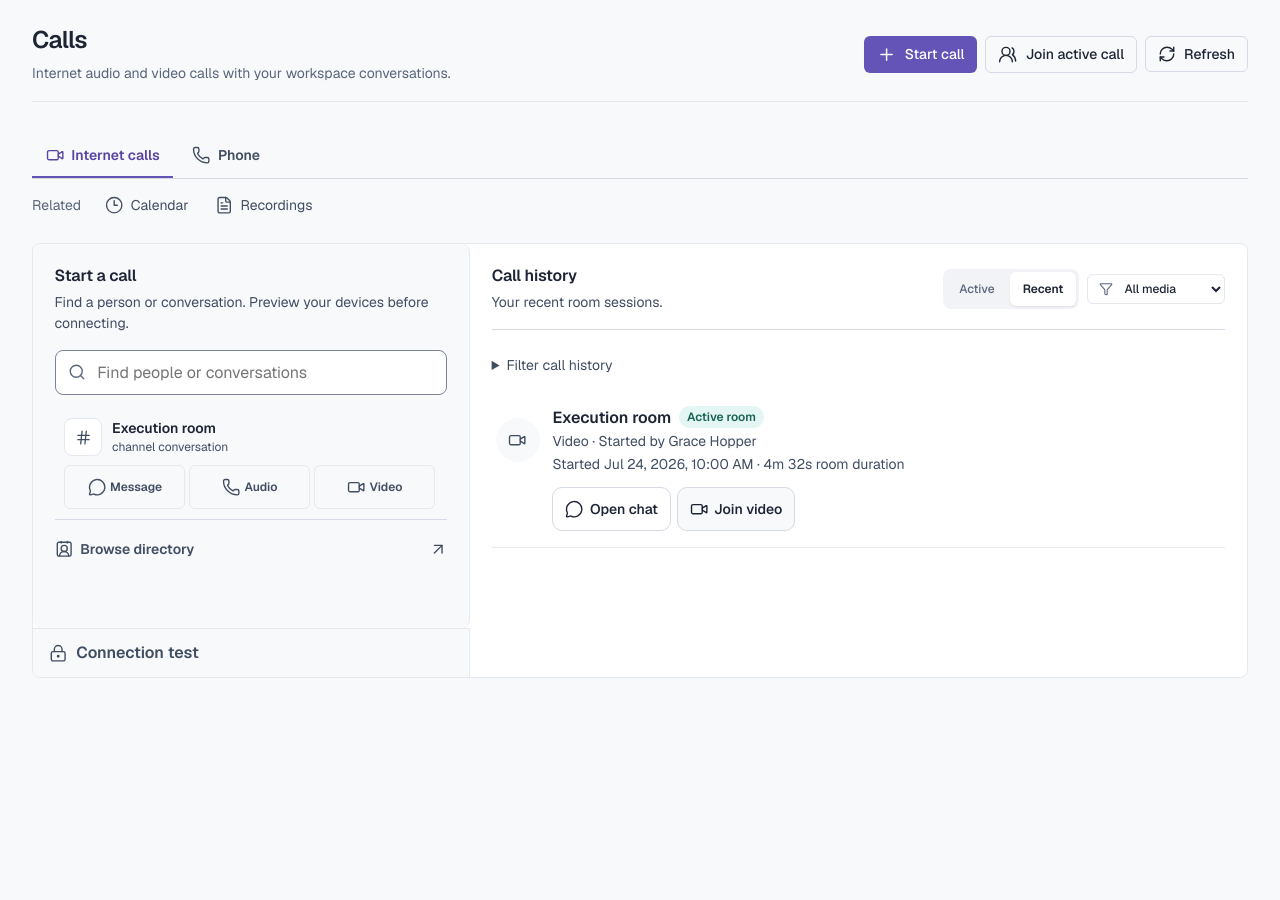
Test: CallsPage › blocks reversed date ranges without requesting an invalid history query
Expected: the text "Active room" is shown, [679, 406, 764, 428]
Click the heading "Filter call history" at (560, 366), box [506, 356, 612, 374]
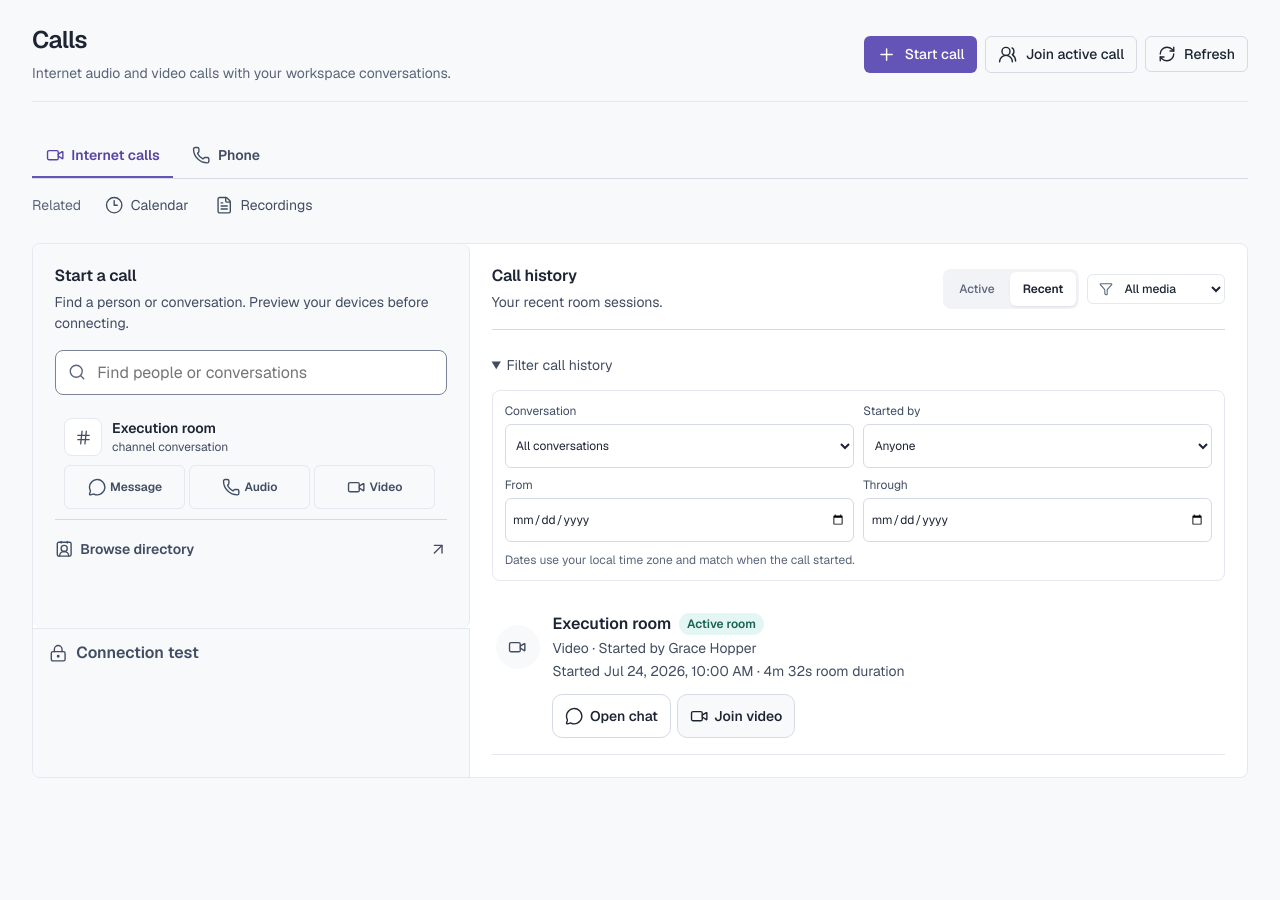
Type "2026-07-25" into the date field labelled "From" at (679, 520), box [505, 498, 854, 542]
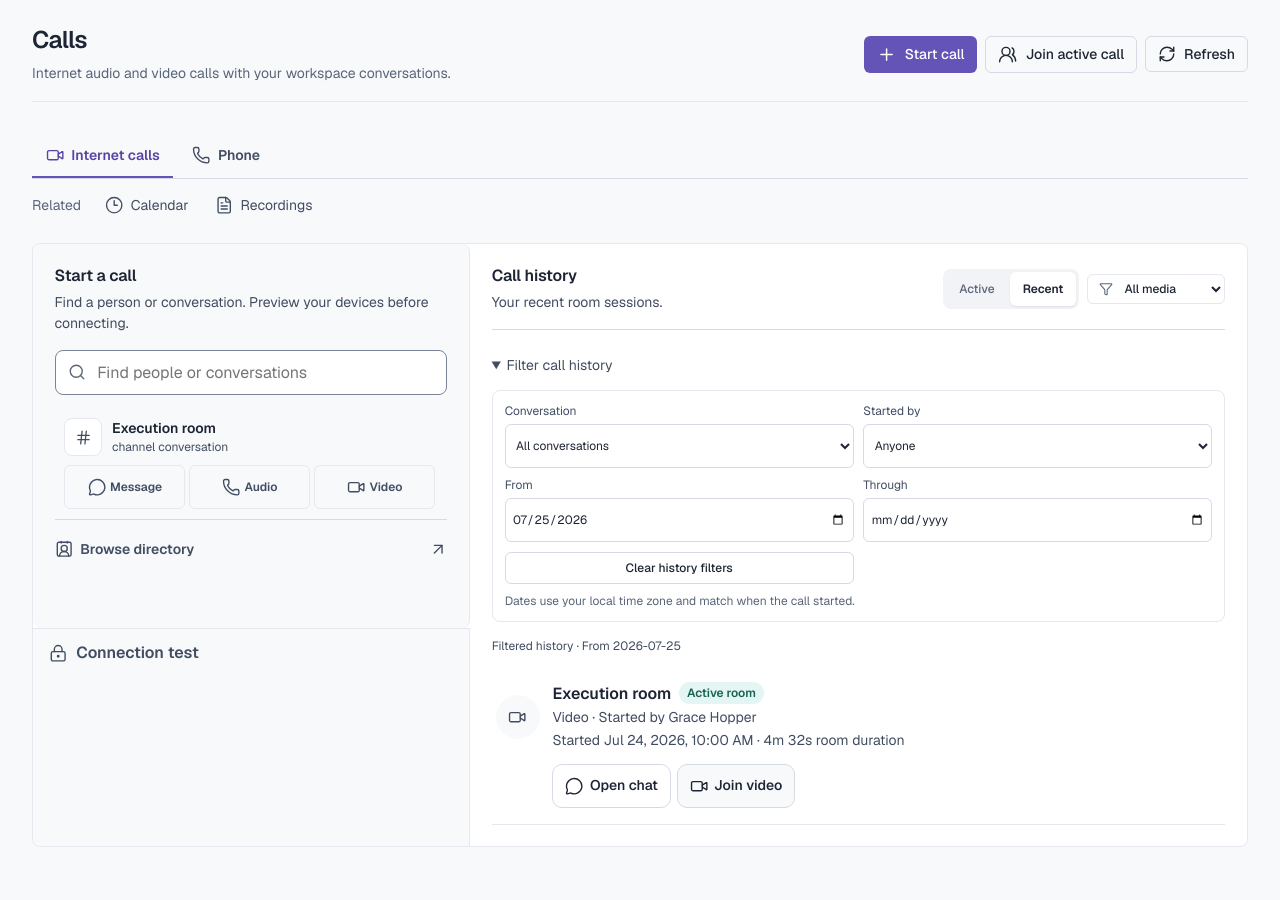
Type "2026-07-24" into the date field labelled "Through" at (1038, 520), box [863, 498, 1212, 542]
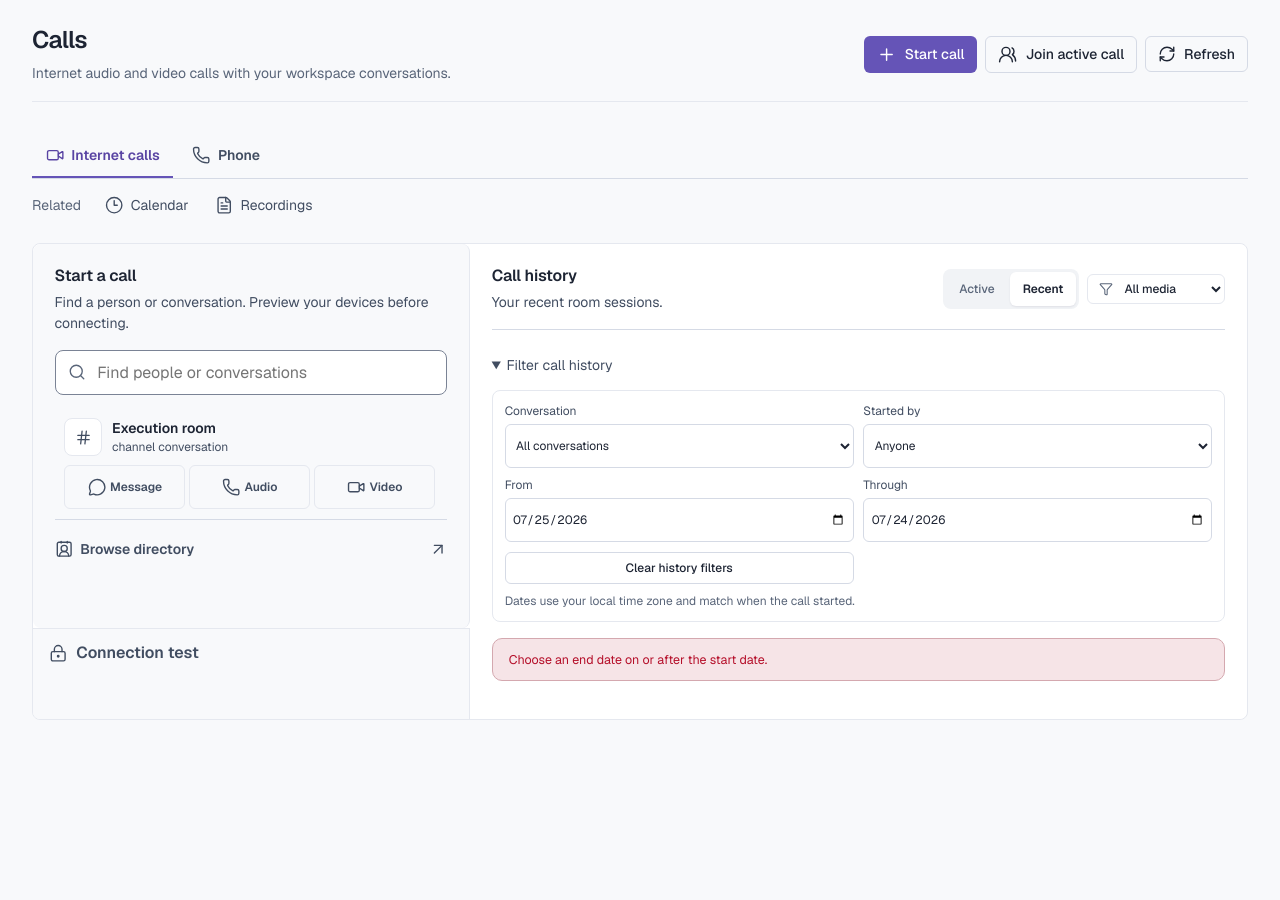
Now the message reads "Choose an end date on or after the start date.", box [509, 651, 767, 668]
